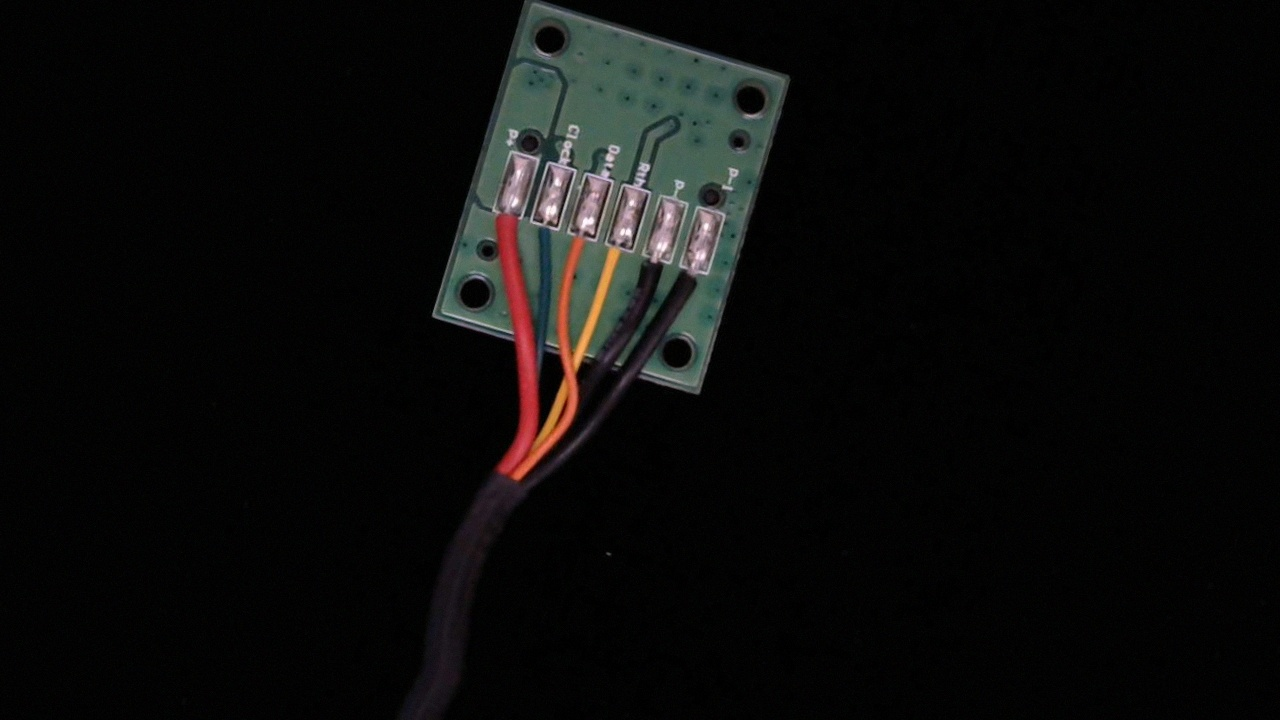Black: (627, 239, 674, 309)
Black1: (665, 252, 711, 322)
Green: (516, 200, 566, 273)
Orange: (554, 216, 601, 287)
Red: (480, 191, 527, 261)
Yellow: (591, 227, 636, 301)
